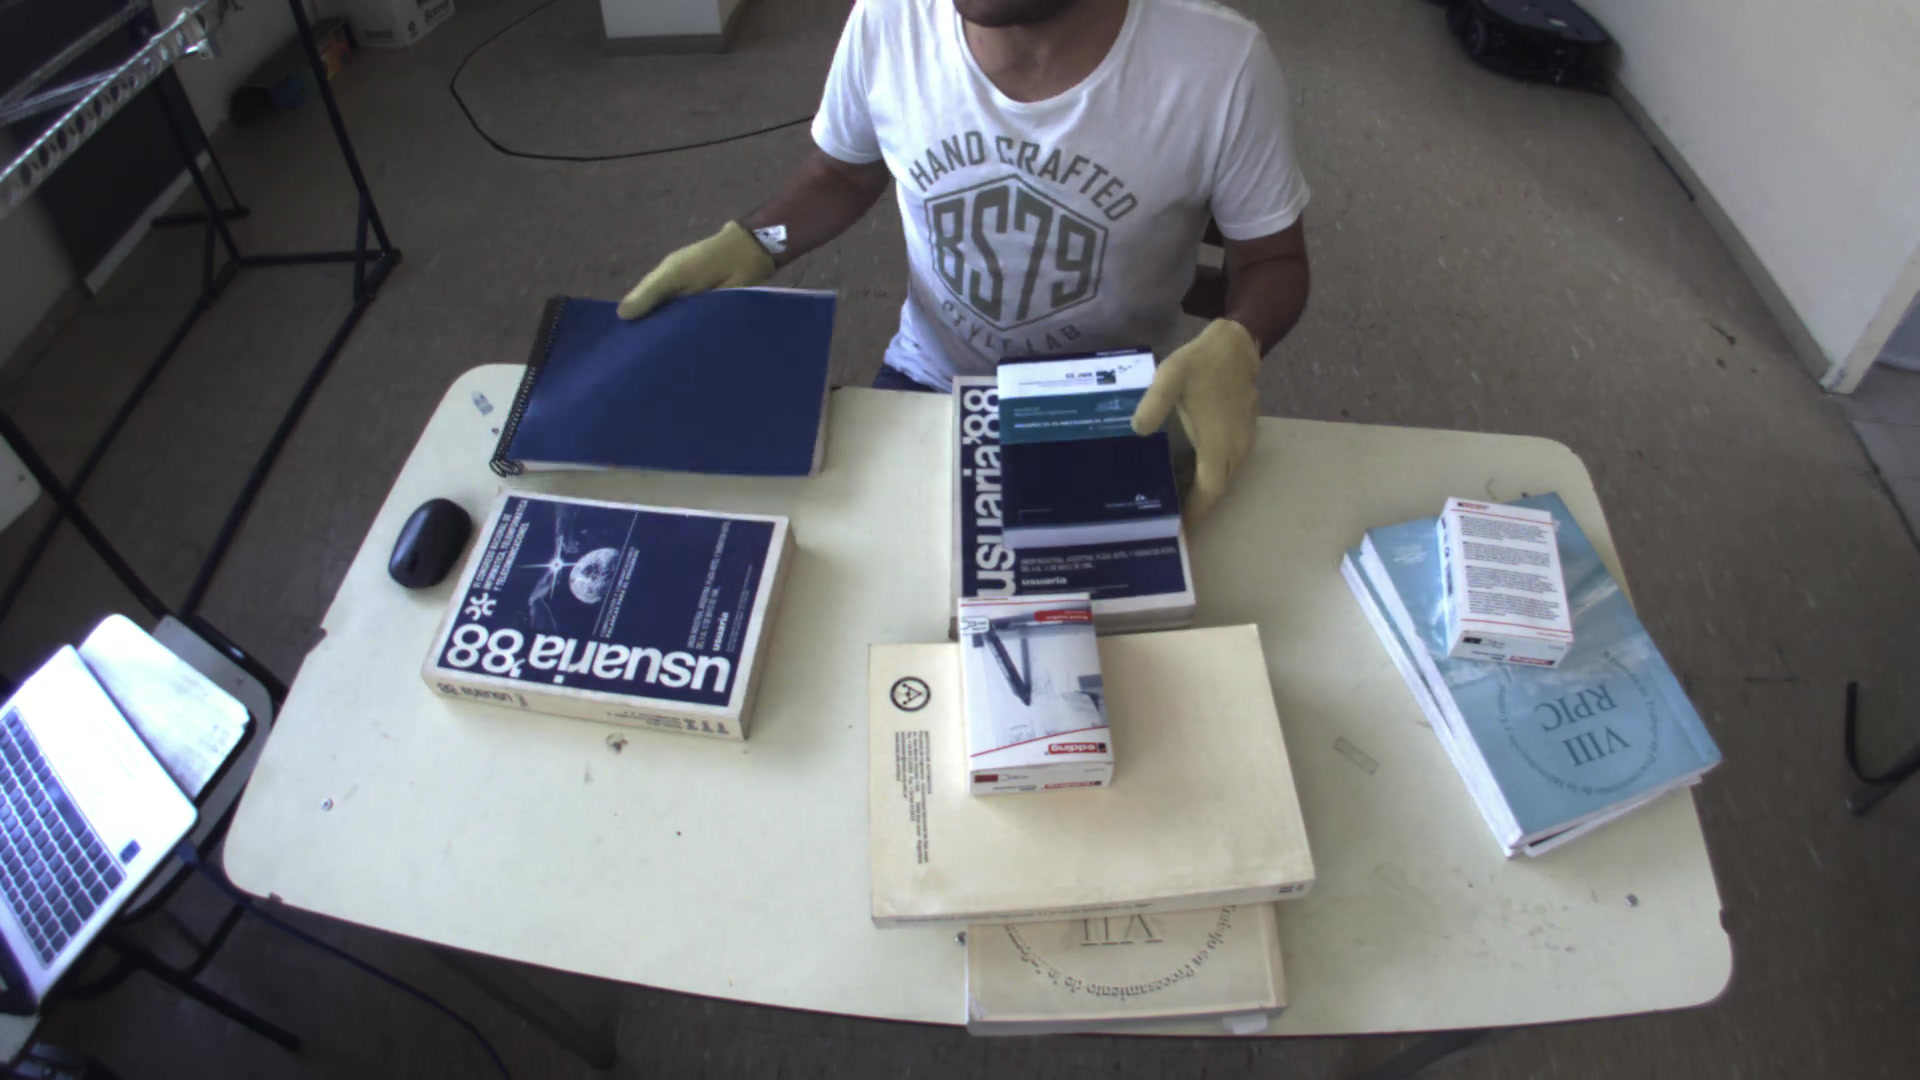hand: (1131, 309, 1276, 510), (603, 196, 775, 320)
